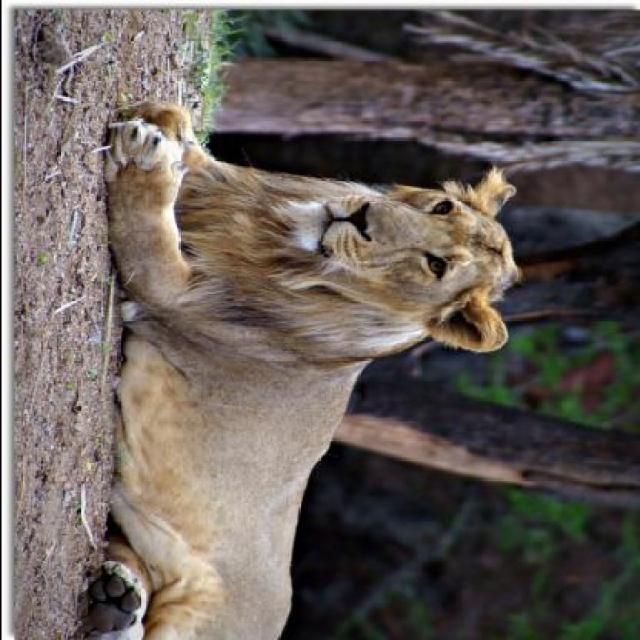Lion: (78, 86, 540, 637)
